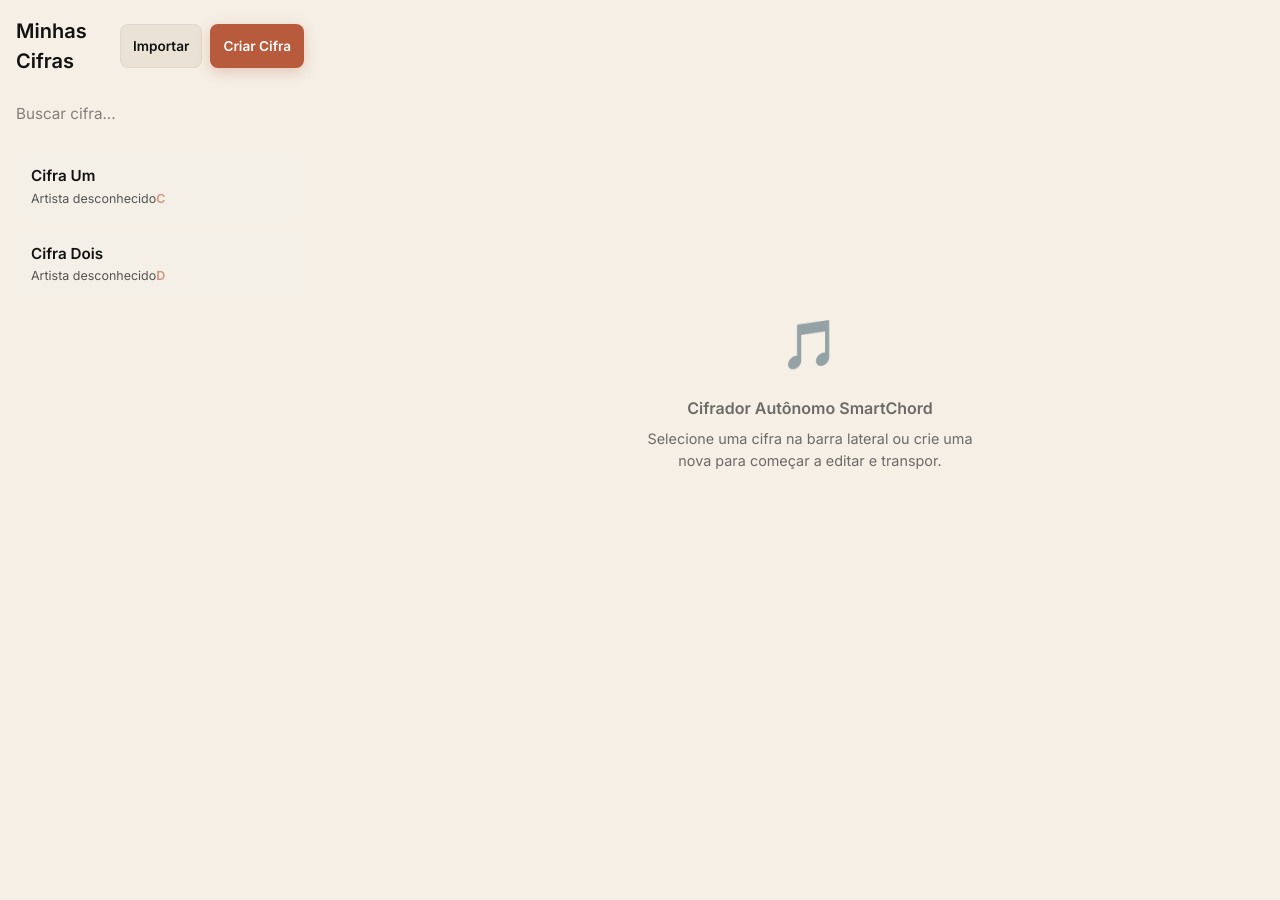
Scenario: SmartChordsWorkspace › Stale Relation Request Fencing (F-M19-05) › WEB_CHORD_SWITCH_LATE_RESPONSE_TEST: discards late relation response from previous chord when user switches chords
Expected: the text "Cifra Dois" is shown, [31,242,103,265]
Click Cifra Um (triggers pending request)
Click the text "Cifra Um" at {"x": 63, "y": 176}, box [31,165,95,188]
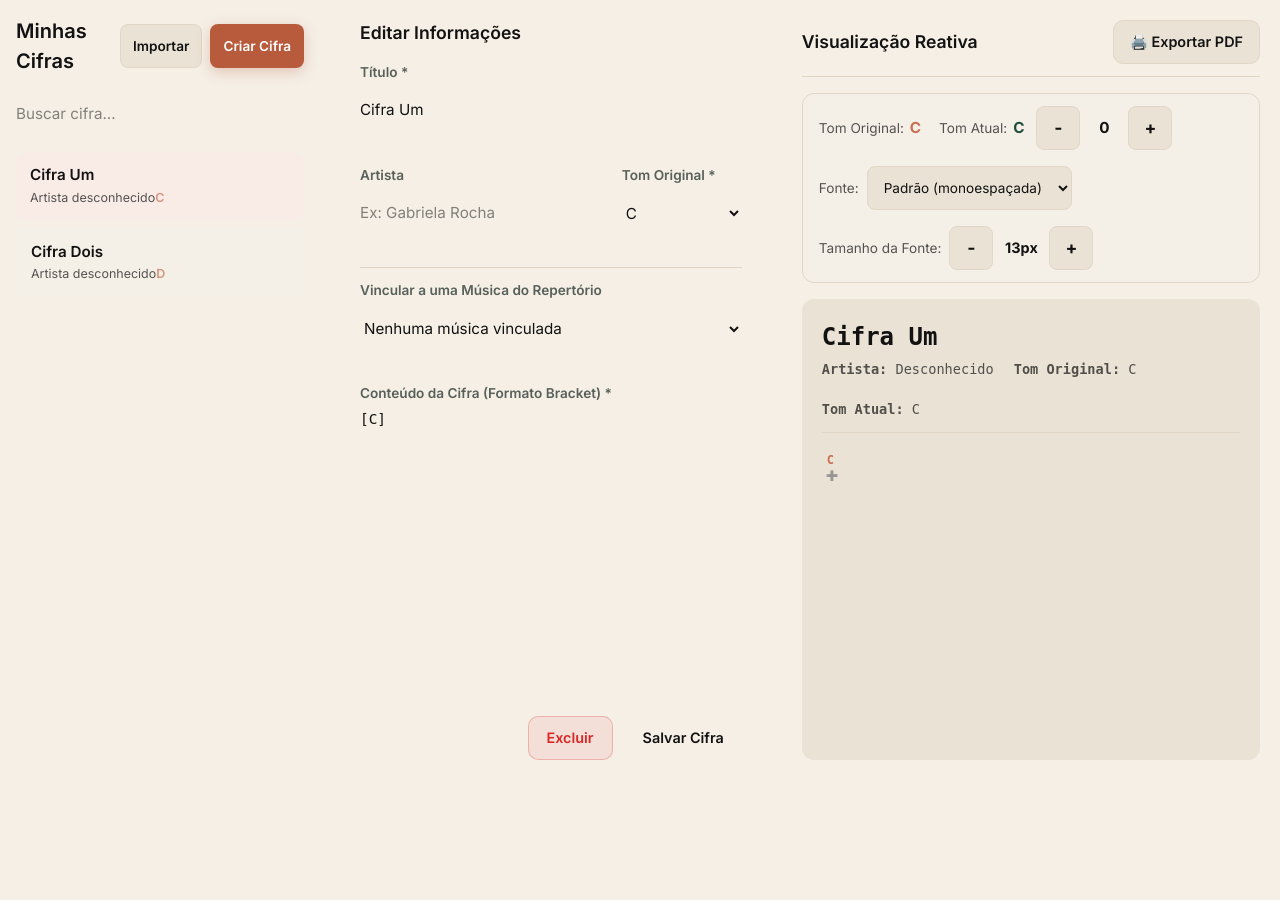
Click Cifra Dois immediately (resolves fast with song-2)
Click the text "Cifra Dois" at {"x": 67, "y": 252}, box [31,240,103,263]
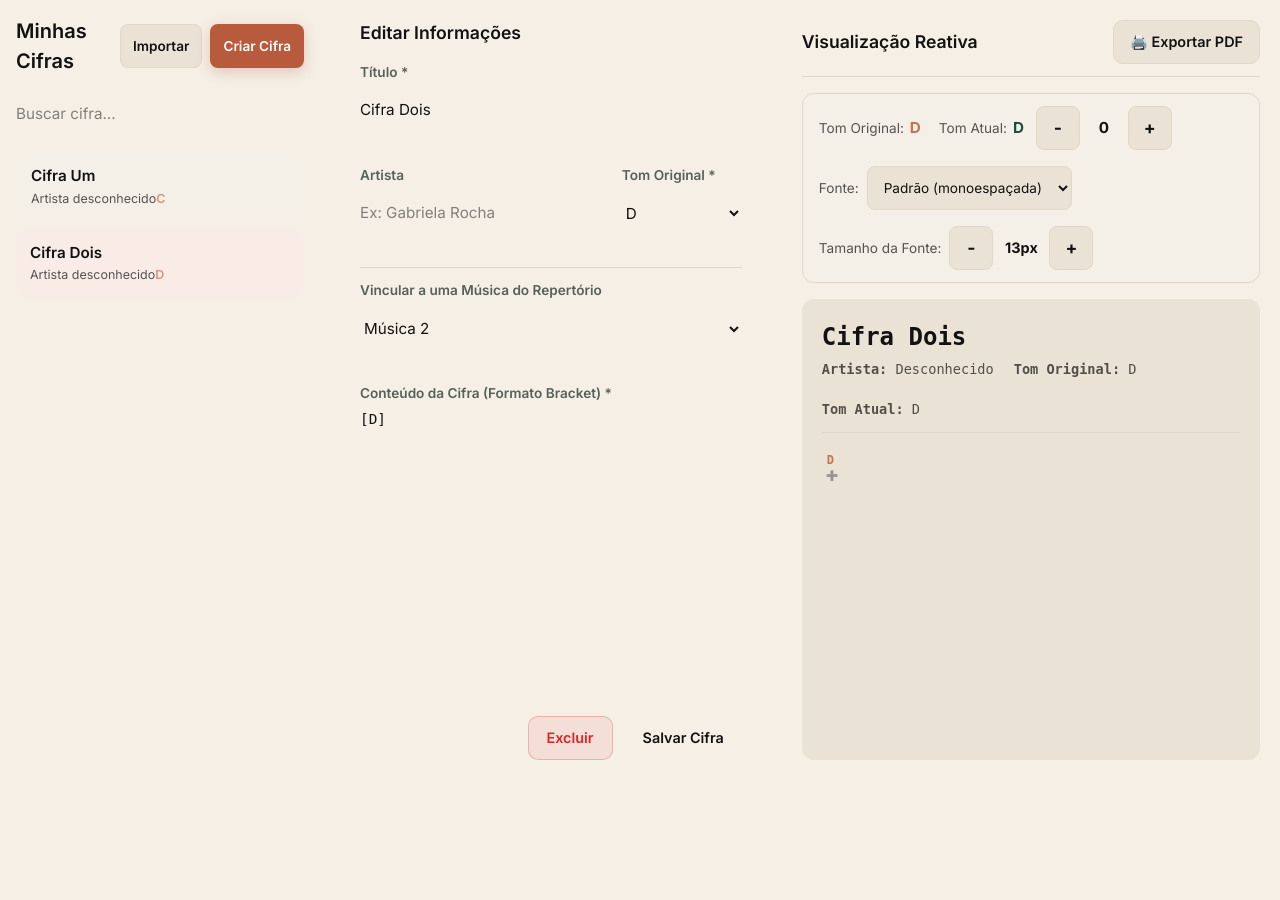
Result: the dropdown below "Vincular a uma Música do Repertório" shows "Música 2" at [360,307,742,351]
